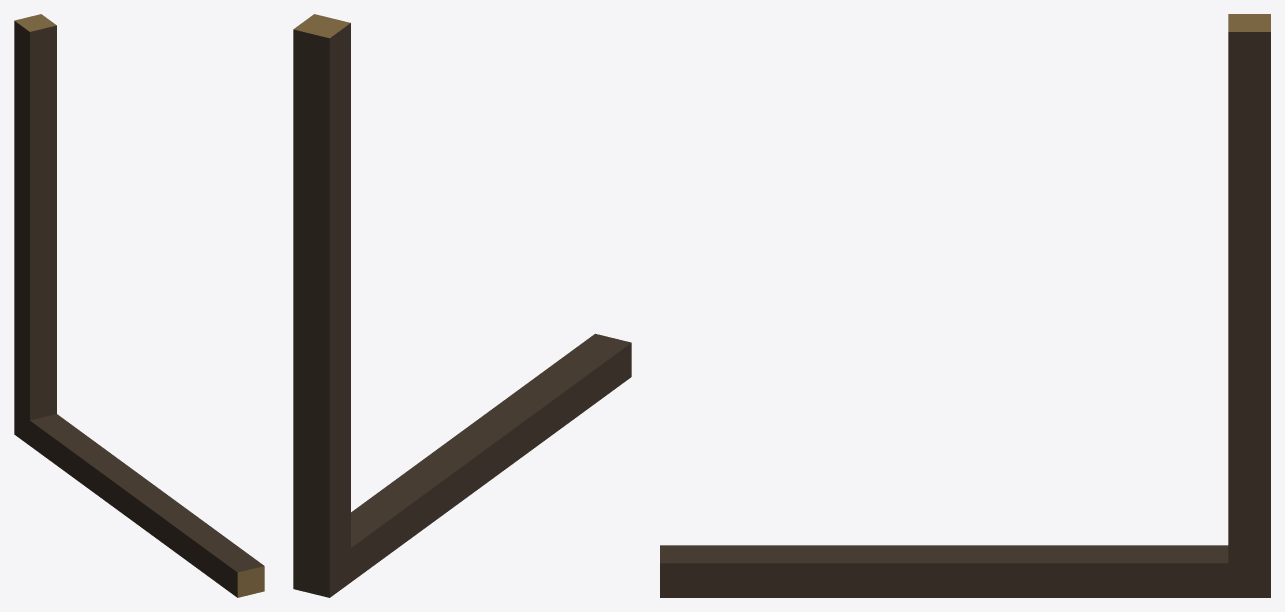
Rendered from Beam_2A_4m.fbx.
3 views of the same model, side by side, from view 1: azimuth 30°, elevation 25°; view 2: azimuth 150°, elevation 25°; view 3: azimuth 270°, elevation 25° (orthographic). The views are drawn at different scales.
Visible parts, largest first — view 1: pCube838; view 2: pCube838; view 3: pCube838.
Part boxes in pixels (x1,y1,x2,y2): pCube838: (14,14,264,597); pCube838: (293,14,631,597); pCube838: (660,14,1270,597).
Bounding box in the file's own units: 30 × 439 × 429.
